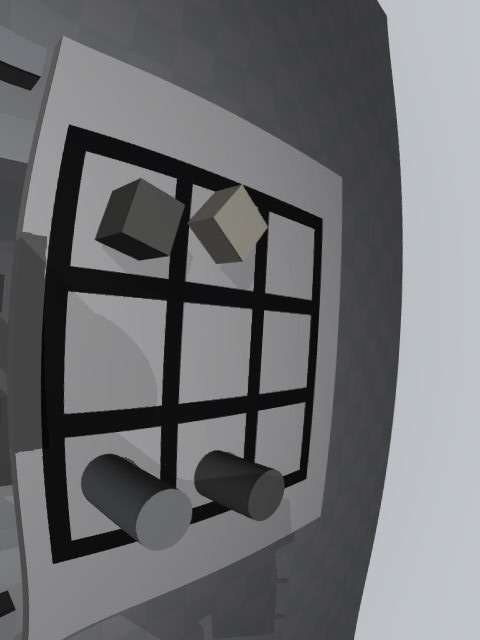can: (81, 454, 192, 551)
cube: (95, 178, 185, 260)
cylinder: (194, 450, 284, 521)
foam: (187, 185, 268, 264)
